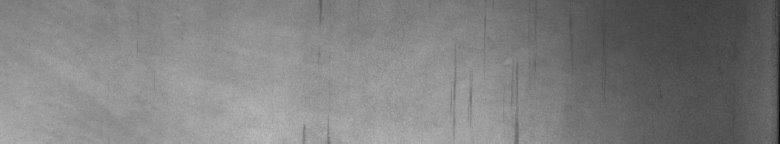ka: (450, 65, 524, 136)
